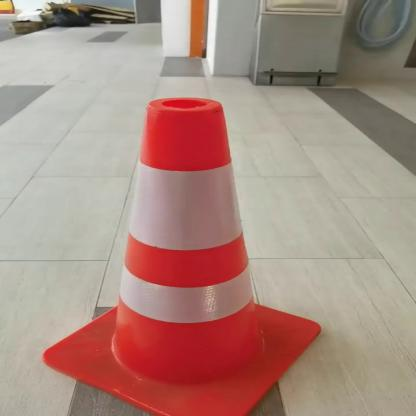cone: (29, 86, 342, 415)
